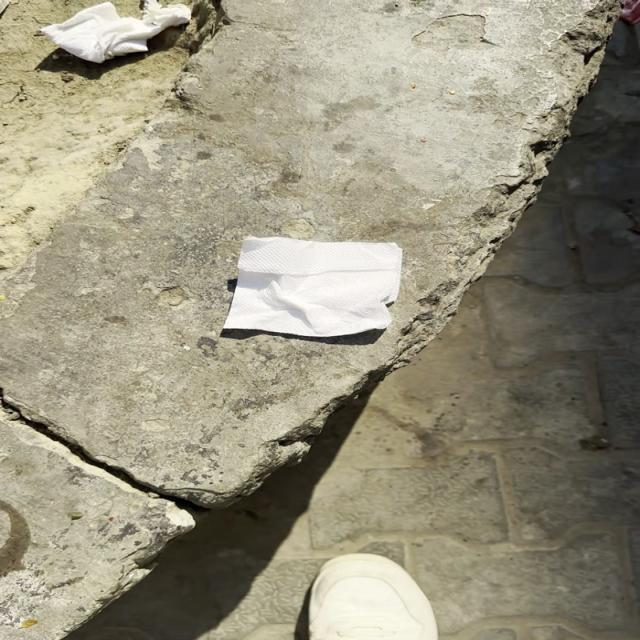tissue: (213, 239, 408, 337)
